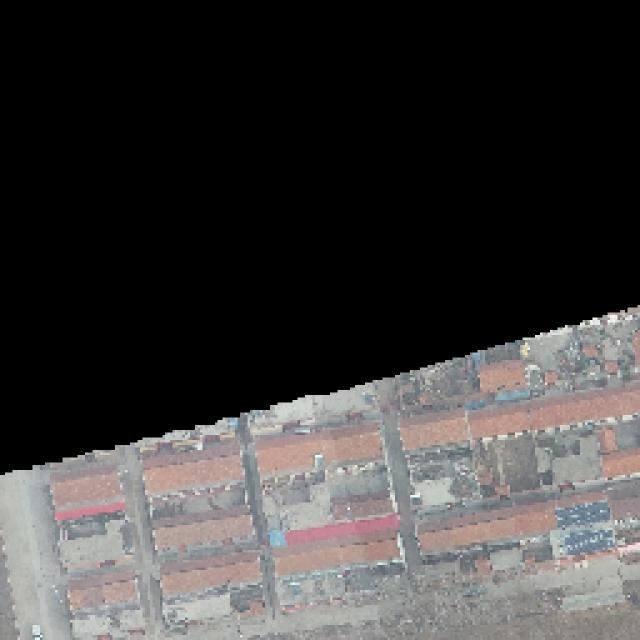Batiment: (419, 501, 565, 552), (258, 426, 381, 474), (69, 570, 142, 639), (531, 383, 640, 429), (144, 443, 241, 493), (274, 538, 396, 574), (161, 553, 258, 594), (154, 516, 251, 549), (286, 517, 399, 544), (52, 473, 122, 513), (402, 411, 467, 451), (471, 407, 528, 438), (334, 493, 392, 521), (479, 360, 528, 392), (601, 448, 640, 477), (230, 582, 260, 614), (609, 496, 640, 519), (600, 428, 618, 452), (631, 330, 640, 371)
